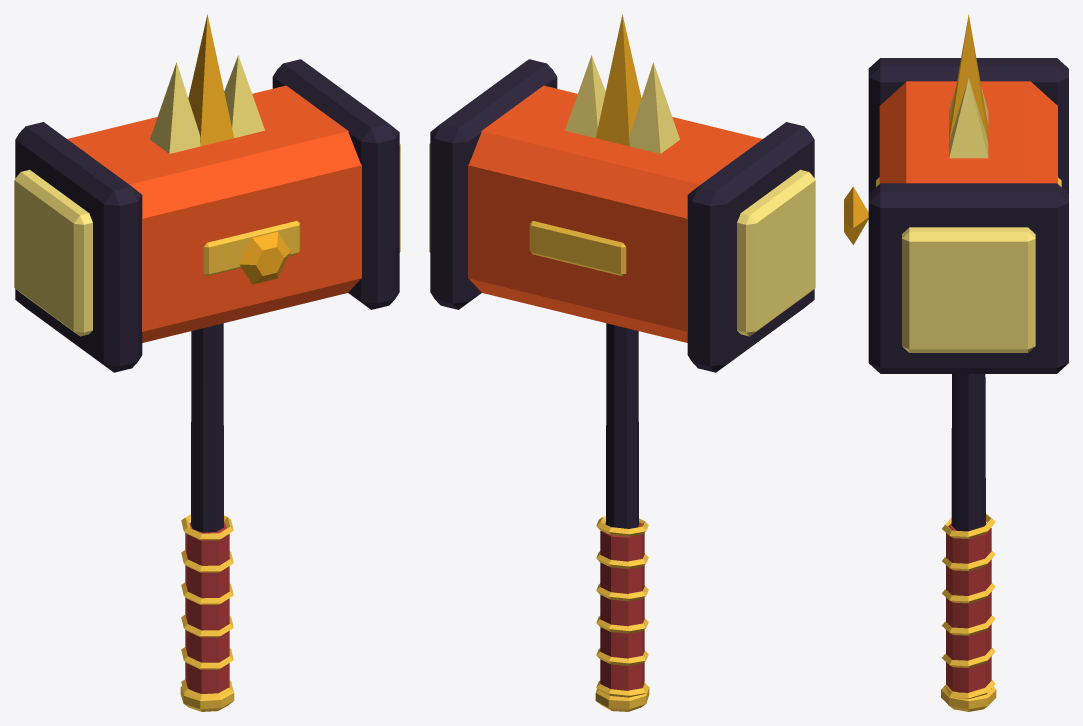
The model's file is FlameHammer.fbx.
3 renders of one model, left to right at view 1: azimuth 30°, elevation 25°; view 2: azimuth 150°, elevation 25°; view 3: azimuth 270°, elevation 25°, orthographic.
Parts seen in each view (by area): view 1: FlameHammer; view 2: FlameHammer; view 3: FlameHammer.
Part boxes in pixels (x1,y1,x2,y2): FlameHammer: [14, 14, 400, 711]; FlameHammer: [429, 14, 815, 711]; FlameHammer: [844, 14, 1068, 711].
Size of the model in its own units: 2.54 by 5.12 by 1.52.
1 material, 1 textured.
